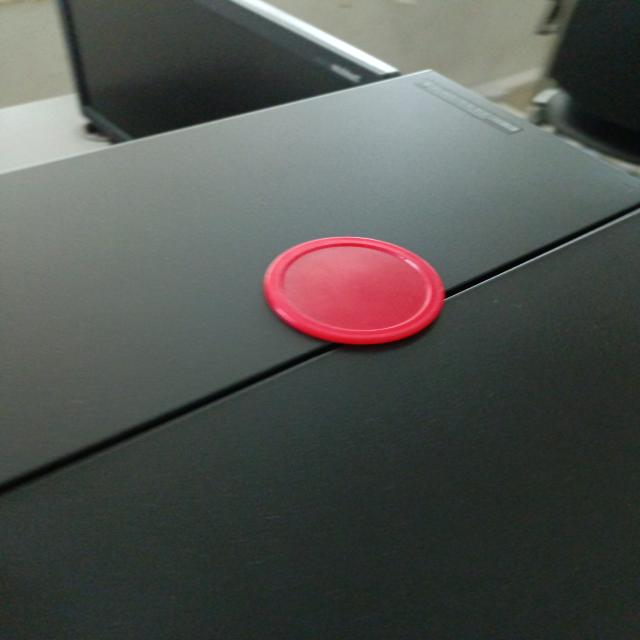chip: (260, 233, 449, 345)
